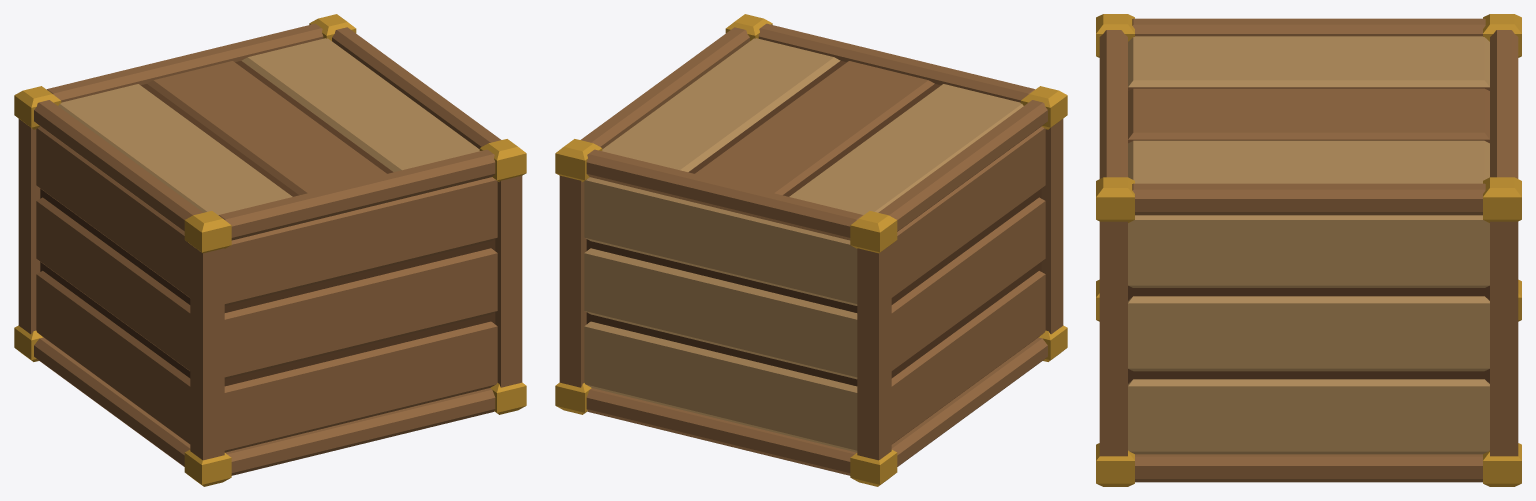
Rendered from Crate_26.glb.
The picture shows the model from 3 angles, left to right: view 1: azimuth 30°, elevation 25°; view 2: azimuth 150°, elevation 25°; view 3: azimuth 270°, elevation 25°; orthographic projection. The views are drawn at different scales.
Parts seen in each view (by area): view 1: Crate_26; view 2: Crate_26; view 3: Crate_26.
Boxes of the visible parts, x1,y1,x2,y2 form: Crate_26: (14, 14, 526, 486); Crate_26: (555, 14, 1067, 486); Crate_26: (1096, 14, 1521, 486).
Size of the model in its own units: 2.4 by 1.86 by 2.4.
